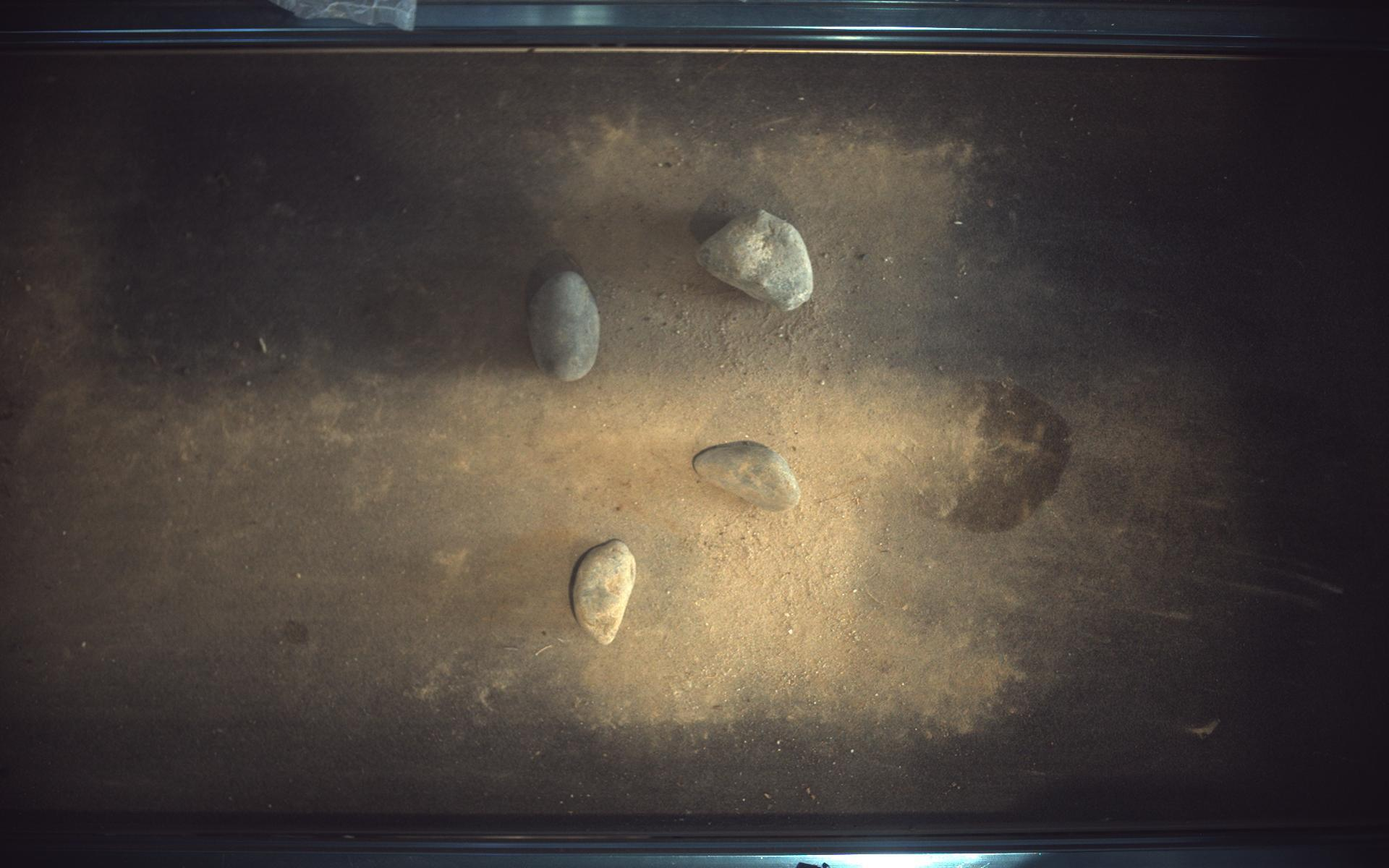stone: (698, 208, 815, 310), (529, 250, 600, 381), (694, 441, 802, 511), (571, 540, 637, 646)
